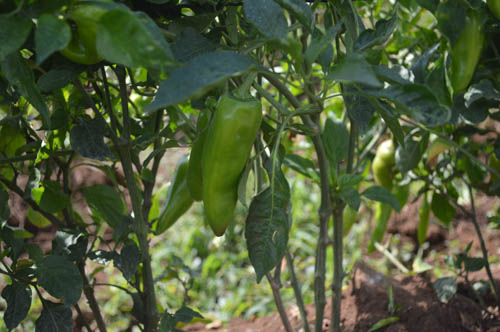ChiliPepper: (203, 96, 258, 231), (154, 158, 194, 243), (59, 6, 113, 64), (449, 15, 487, 91), (370, 133, 393, 250), (187, 108, 212, 202)
